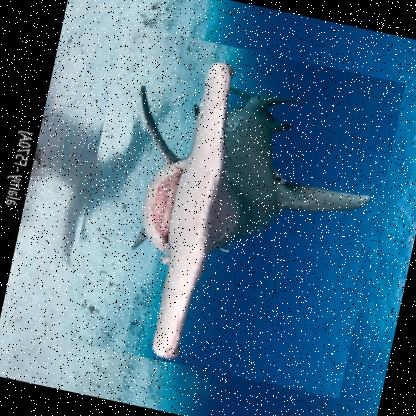hammerhead_Shark: (56, 22, 404, 398)
